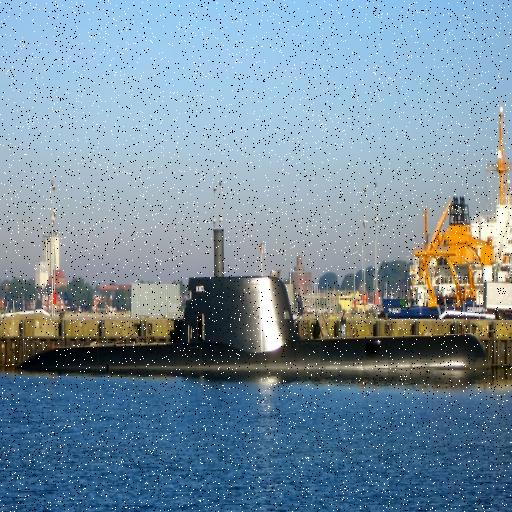submarine: (16, 230, 493, 370)
